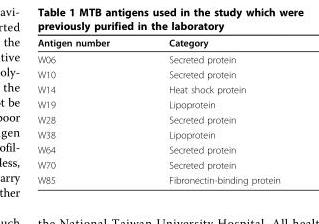table: (36, 36, 279, 185)
table column: (138, 36, 279, 185), (36, 36, 138, 185)
table column header: (36, 36, 279, 50)
table row: (36, 50, 279, 66), (36, 141, 279, 157), (36, 66, 279, 81), (36, 81, 279, 96), (36, 96, 279, 111), (36, 111, 279, 126), (36, 126, 279, 141), (36, 157, 279, 172), (36, 36, 279, 50), (36, 172, 279, 185)
